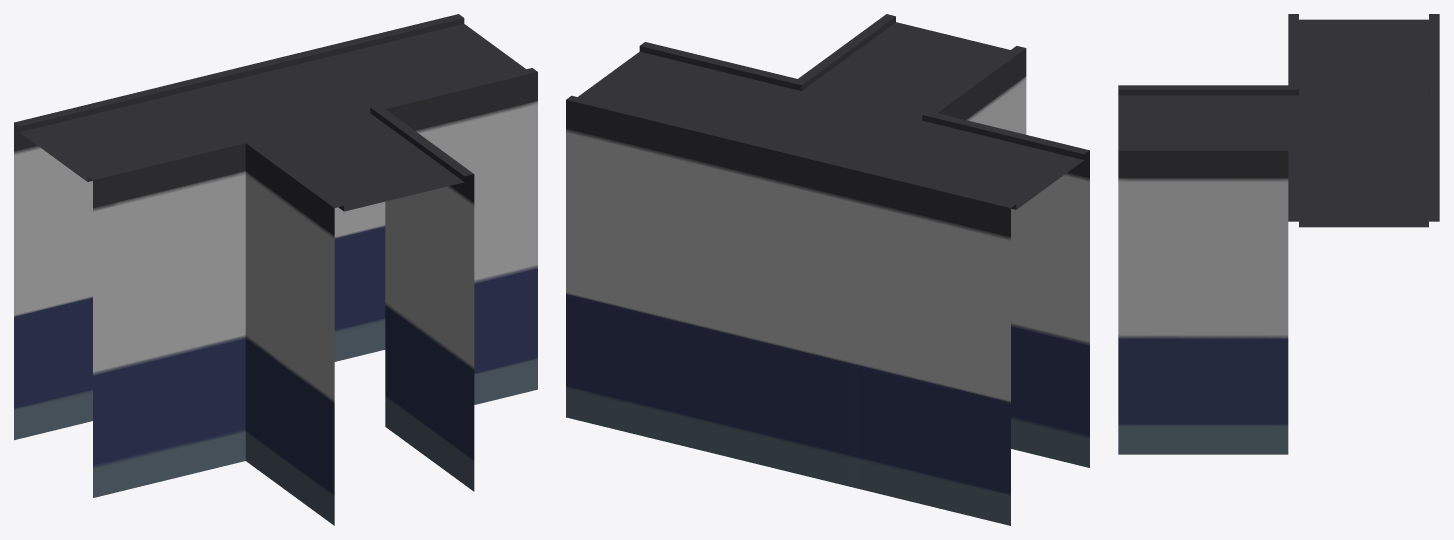
The model's file is Parede1T.fbx.
The picture shows the model from 3 angles, left to right: view 1: azimuth 30°, elevation 25°; view 2: azimuth 150°, elevation 25°; view 3: azimuth 270°, elevation 25°; orthographic projection. The views are drawn at different scales.
Parts seen in each view (by area): view 1: Parede1T; view 2: Parede1T; view 3: Parede1T.
Boxes of the visible parts, <box> form: Parede1T: <box>14,14,537,525</box>; Parede1T: <box>566,14,1089,525</box>; Parede1T: <box>1118,14,1439,454</box>.
Bounding box in the file's own units: 433 × 295 × 283.
